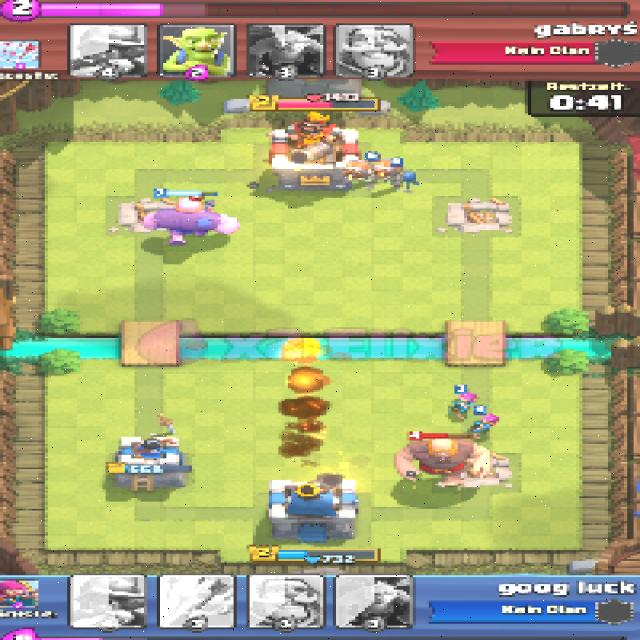Enemy-Giant: (389, 437, 493, 485)
Enemy-MiniPEKKA: (176, 195, 218, 212)
Player-Archer: (470, 414, 501, 435), (450, 393, 476, 414)
Player-Fireball: (279, 339, 322, 364)
Player-Giant: (139, 201, 240, 243)
Player-Wallbreaker: (376, 159, 420, 190), (346, 160, 379, 186)
